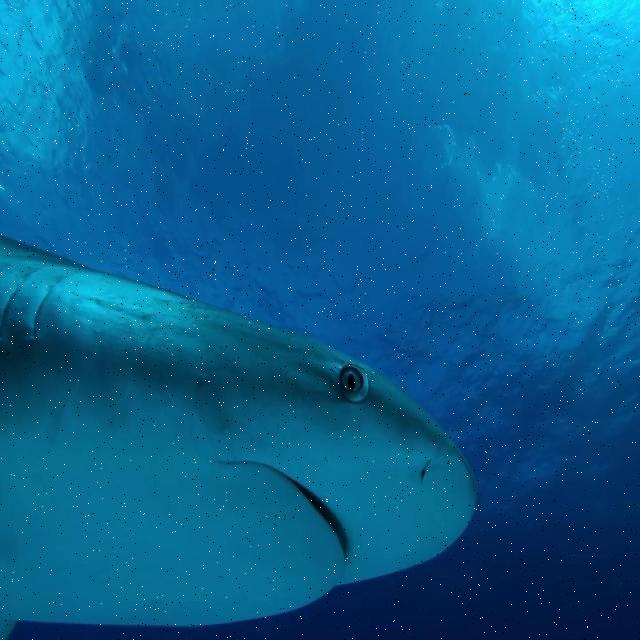fish: (0, 232, 481, 639)
